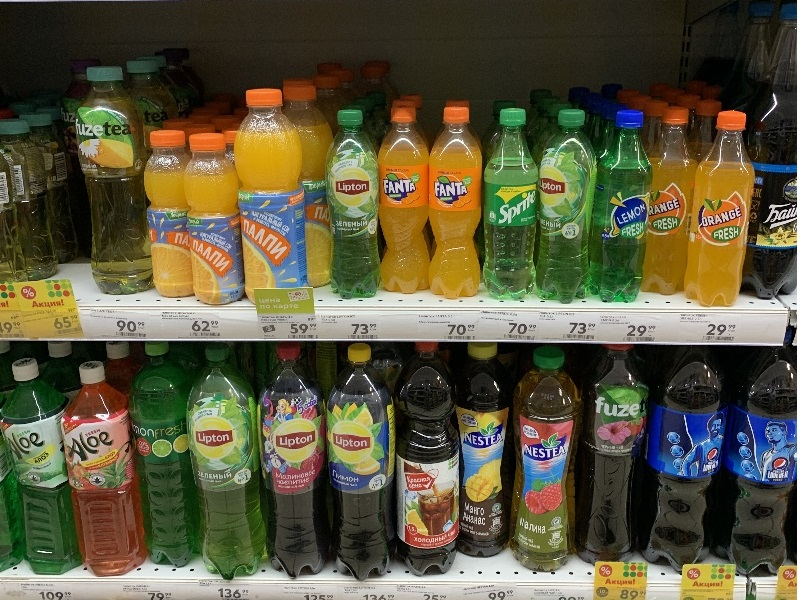lemonade: (190, 342, 276, 585), (62, 360, 153, 581), (4, 355, 90, 583), (259, 343, 339, 587), (323, 337, 400, 589), (384, 341, 463, 584), (643, 342, 723, 579), (508, 344, 581, 584), (133, 335, 204, 577), (680, 108, 763, 313), (533, 106, 600, 310), (426, 105, 491, 305), (321, 108, 385, 309), (480, 105, 543, 306), (375, 106, 436, 302), (593, 109, 651, 309)
